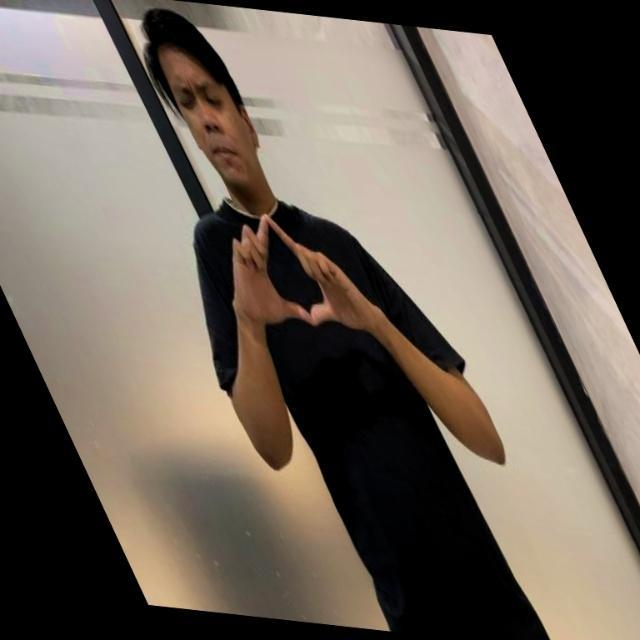A: (224, 206, 358, 336)
